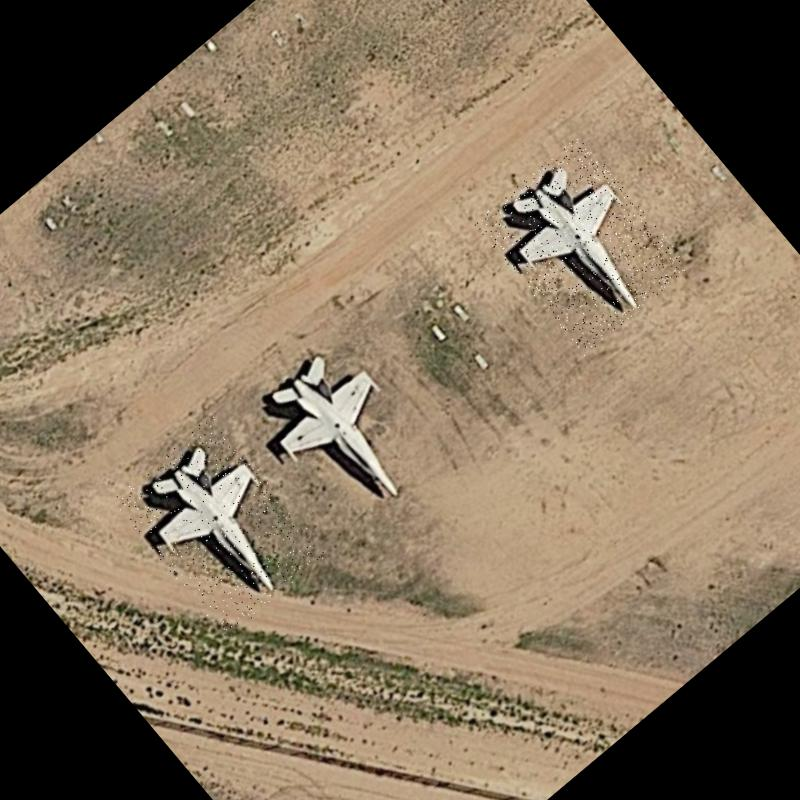A16: (110, 414, 328, 638), (473, 133, 691, 355), (235, 323, 450, 546)
